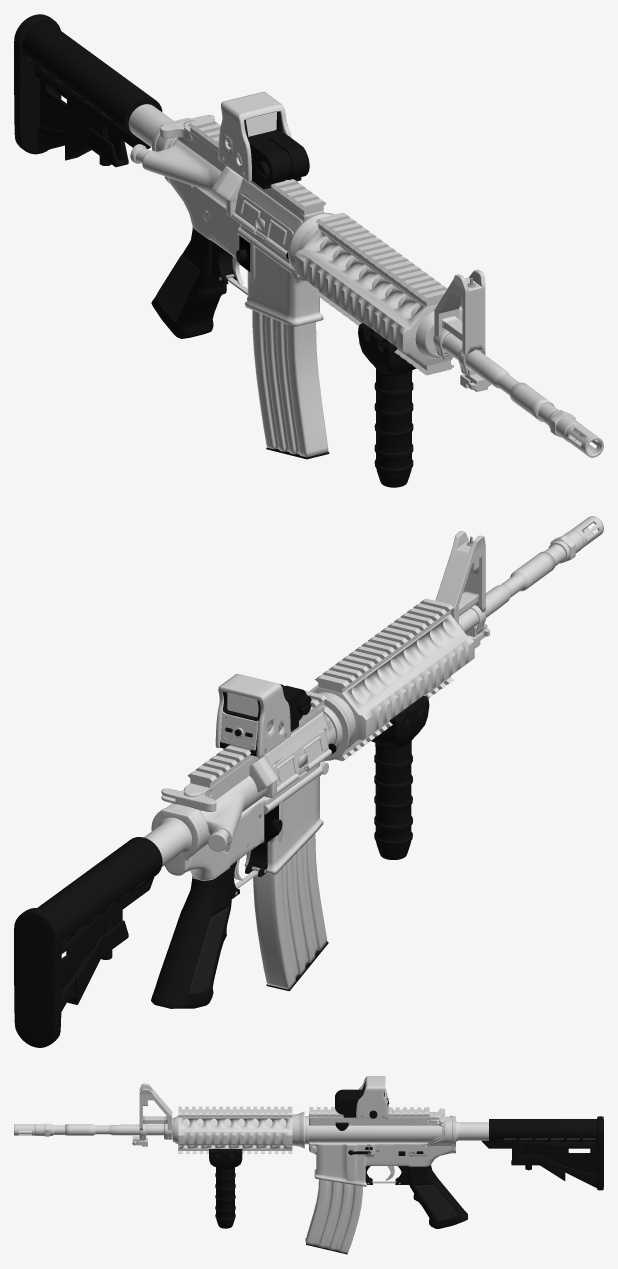
The model's file is gun2.glb.
The picture shows the model from 3 angles, top to bottom: view 1: azimuth 30°, elevation 25°; view 2: azimuth 150°, elevation 25°; view 3: azimuth 270°, elevation 25°; orthographic projection. The views are drawn at different scales.
Visible parts, largest first — view 1: cube; view 2: cube; view 3: cube.
Boxes of the visible parts, left/top/right/bottom form: cube: left=14, top=14, right=603, bottom=487; cube: left=14, top=516, right=603, bottom=1047; cube: left=14, top=1076, right=603, bottom=1254.
Bounding box in the file's own units: 0.0925 × 0.3372 × 1.06.
Materials: 8 (2 with a texture image).
